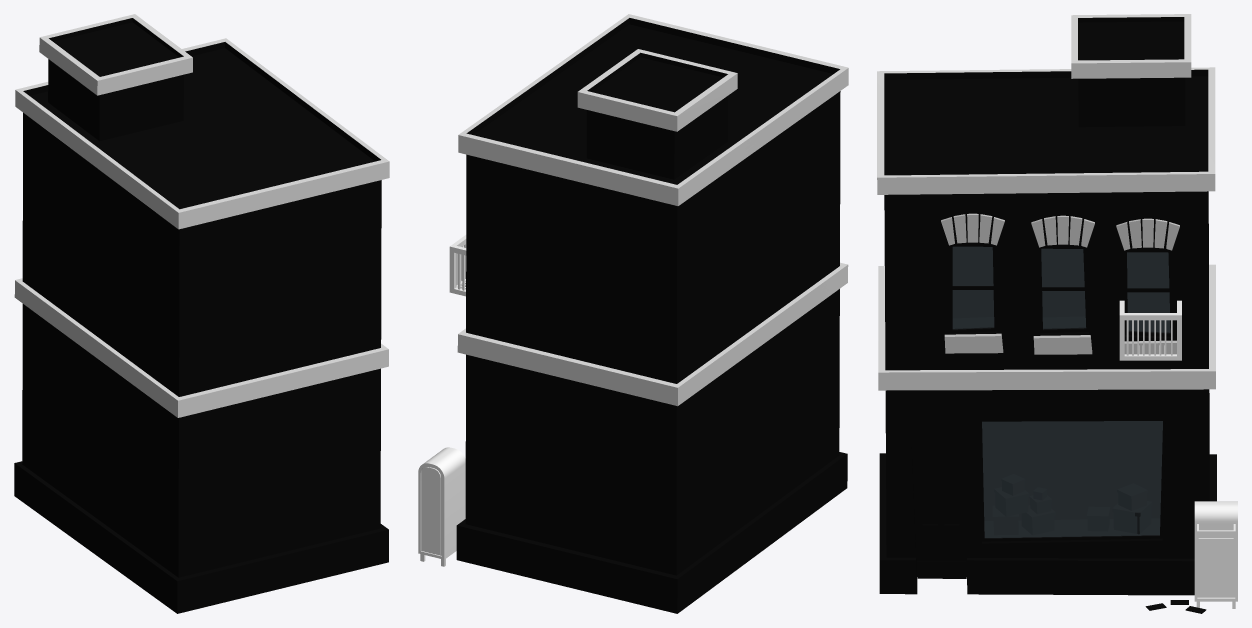
The model's file is bina4.fbx.
3 views of the same model, side by side, from view 1: azimuth 30°, elevation 25°; view 2: azimuth 150°, elevation 25°; view 3: azimuth 270°, elevation 25° (orthographic). The views are drawn at different scales.
Parts seen in each view (by area): view 1: Cube.010; view 2: Cube.010; view 3: Cube.010.
Boxes of the visible parts, x1=… form: Cube.010: x1=14, y1=14, x2=389, y2=613; Cube.010: x1=418, y1=14, x2=848, y2=613; Cube.010: x1=877, y1=14, x2=1237, y2=613.
Bounding box in the file's own units: 1206 × 2118 × 1438.
12 materials, 9 textured.
